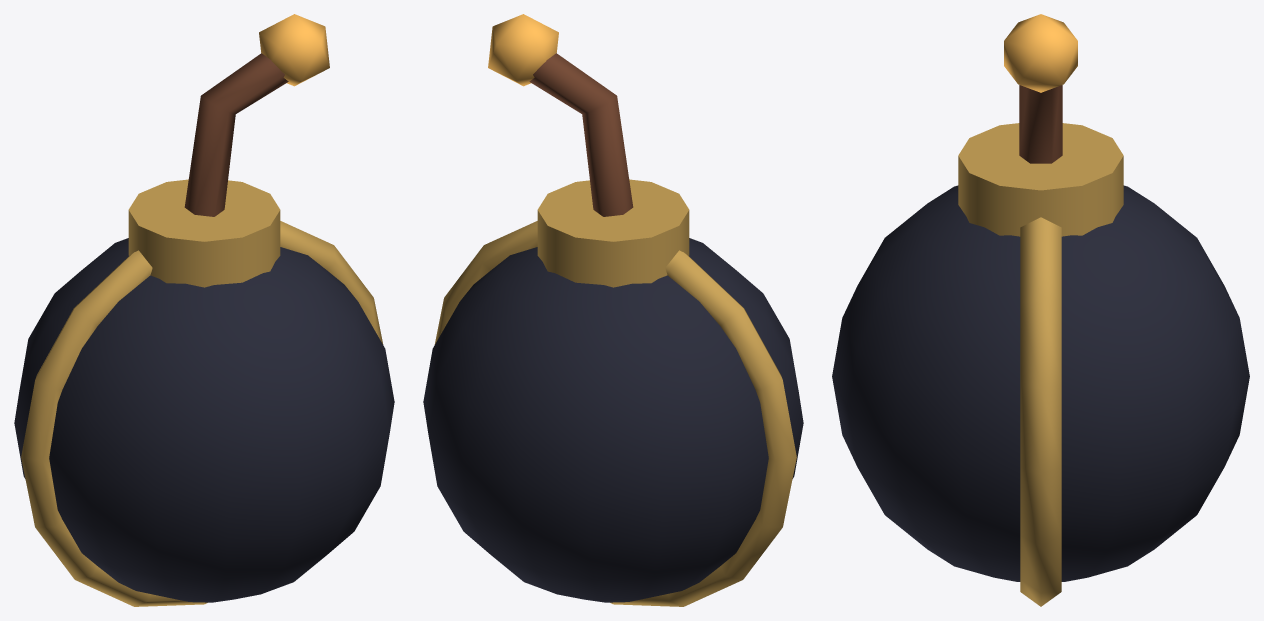
File: bomb.fbx
The picture shows the model from 3 angles, left to right: view 1: azimuth 30°, elevation 25°; view 2: azimuth 150°, elevation 25°; view 3: azimuth 270°, elevation 25°; orthographic projection. The views are drawn at different scales.
Visible parts, largest first — view 1: bomb; view 2: bomb; view 3: bomb.
Boxes of the visible parts, x1,y1,x2,y2 form: bomb: (14,14,394,606); bomb: (423,14,803,606); bomb: (832,14,1249,606).
Size of the model in its own units: 0.53 by 0.785 by 0.48.
